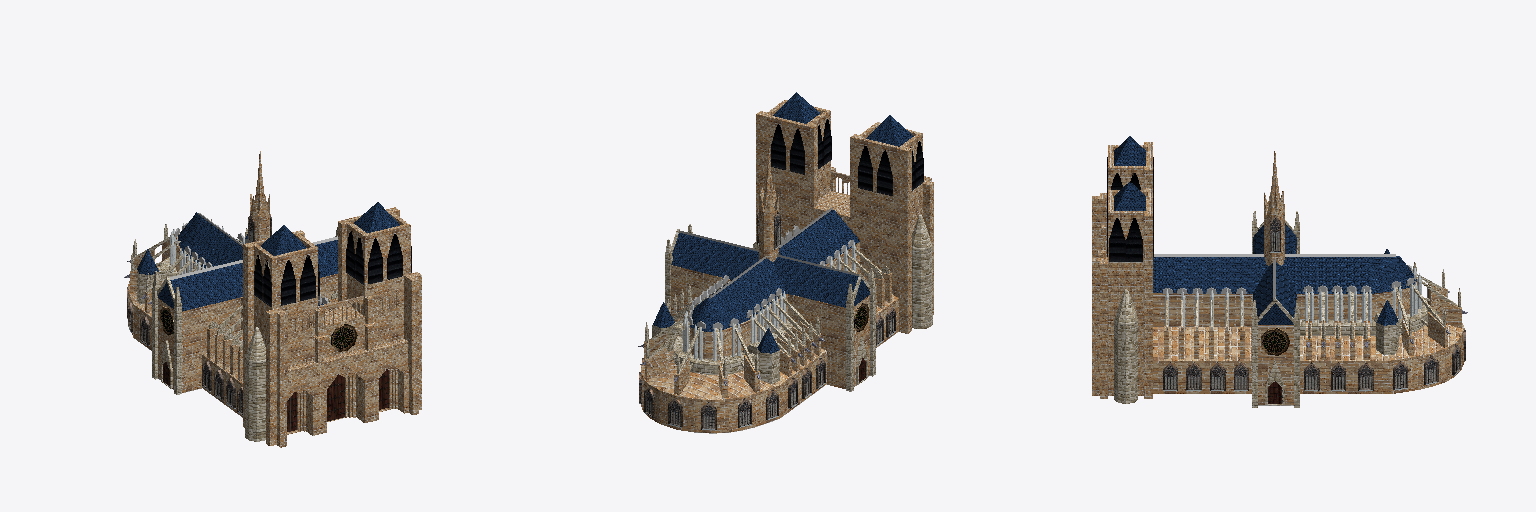
The picture shows the model from 3 angles: view 1: azimuth 30°, elevation 25°; view 2: azimuth 150°, elevation 25°; view 3: azimuth 270°, elevation 25°; orthographic projection.
Parts seen in each view (by area): view 1: facade, base, toit, fenetre_clocher, tour_front, fentre, door, pillar_side, ornement_front, vitraux, pont_devant; view 2: base, facade, toit, fentre, fenetre_clocher, tour_front, pont_devant, pillar_side, pique_pont, etage, tour_back, piece_pont_toit (+3 smaller); view 3: base, toit, facade, fentre, tour_front, pique_pont, fenetre_clocher, pillar_side, pont_devant, etage, deco_toit, tour_back (+3 smaller).
Boxes of the visible parts, x1=… form: facade: x1=243, y1=207, x2=421, y2=447; base: x1=128, y1=151, x2=337, y2=417; toit: x1=158, y1=202, x2=399, y2=311; fenetre_clocher: x1=254, y1=231, x2=411, y2=306; tour_front: x1=245, y1=327, x2=265, y2=441; fentre: x1=127, y1=214, x2=271, y2=415; door: x1=163, y1=362, x2=388, y2=431; pillar_side: x1=152, y1=227, x2=337, y2=394; ornement_front: x1=288, y1=288, x2=403, y2=332; vitraux: x1=160, y1=306, x2=357, y2=351; pont_devant: x1=134, y1=233, x2=330, y2=343; base: x1=641, y1=148, x2=898, y2=433; facade: x1=756, y1=100, x2=933, y2=333; toit: x1=671, y1=92, x2=913, y2=331; fentre: x1=639, y1=209, x2=895, y2=430; fenetre_clocher: x1=771, y1=119, x2=923, y2=195; tour_front: x1=912, y1=215, x2=932, y2=328; pont_devant: x1=649, y1=239, x2=881, y2=371; pillar_side: x1=665, y1=224, x2=875, y2=391; pique_pont: x1=683, y1=225, x2=855, y2=360; etage: x1=674, y1=321, x2=797, y2=374; tour_back: x1=652, y1=322, x2=779, y2=383; piece_pont_toit: x1=688, y1=226, x2=853, y2=328; base: x1=1153, y1=151, x2=1464, y2=405; toit: x1=1114, y1=136, x2=1416, y2=324; facade: x1=1092, y1=142, x2=1152, y2=398; fentre: x1=1163, y1=215, x2=1465, y2=390; tour_front: x1=1114, y1=289, x2=1137, y2=403; pique_pont: x1=1165, y1=266, x2=1421, y2=330; fenetre_clocher: x1=1107, y1=157, x2=1153, y2=261; pillar_side: x1=1252, y1=211, x2=1299, y2=407; pont_devant: x1=1166, y1=274, x2=1457, y2=330; etage: x1=1300, y1=302, x2=1428, y2=336; deco_toit: x1=1154, y1=254, x2=1395, y2=298; tour_back: x1=1374, y1=313, x2=1398, y2=355.
Size of the model in its own units: 27.79 by 30.1 by 48.38.
Materials: 10 (9 with a texture image).